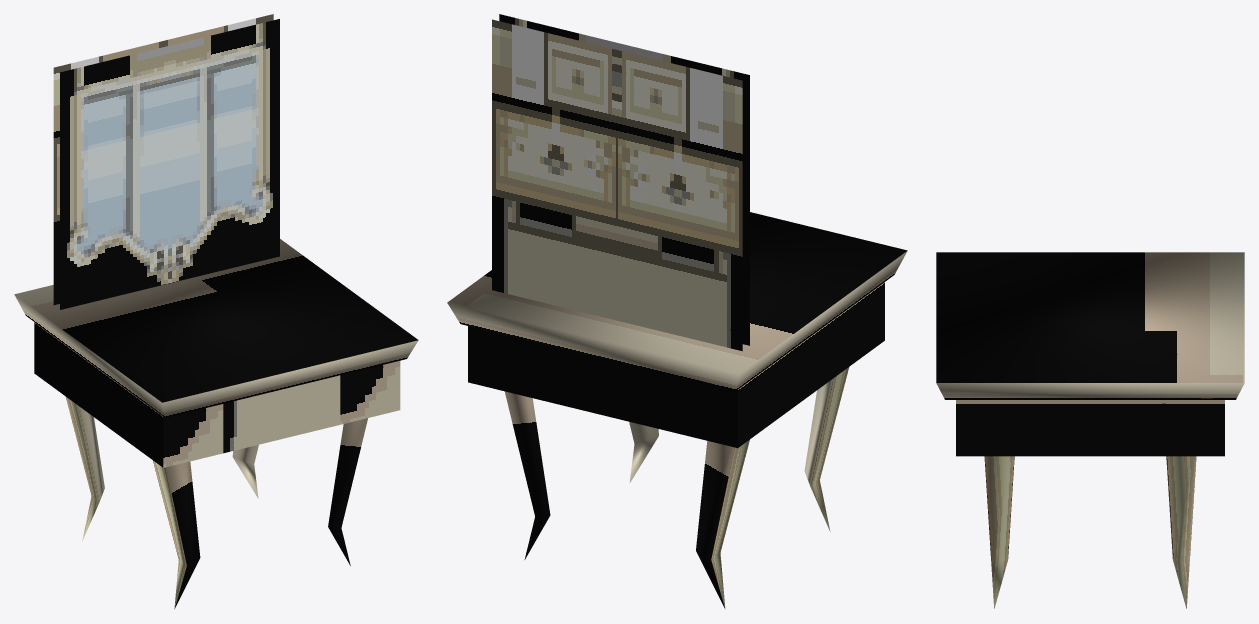
The picture shows the model from 3 angles, left to right: view 1: azimuth 30°, elevation 25°; view 2: azimuth 150°, elevation 25°; view 3: azimuth 270°, elevation 25°; orthographic projection. The views are drawn at different scales.
Parts seen in each view (by area): view 1: 3091IMRL06_09; view 2: 3091IMRL06_09; view 3: 3091IMRL06_09.
Boxes of the visible parts, x1,y1,x2,y2 form: 3091IMRL06_09: (14, 14, 418, 609); 3091IMRL06_09: (447, 14, 907, 608); 3091IMRL06_09: (936, 252, 1244, 608).
Size of the model in its own units: 0.9497 by 1.68 by 0.9497.
2 materials, 2 textured.
